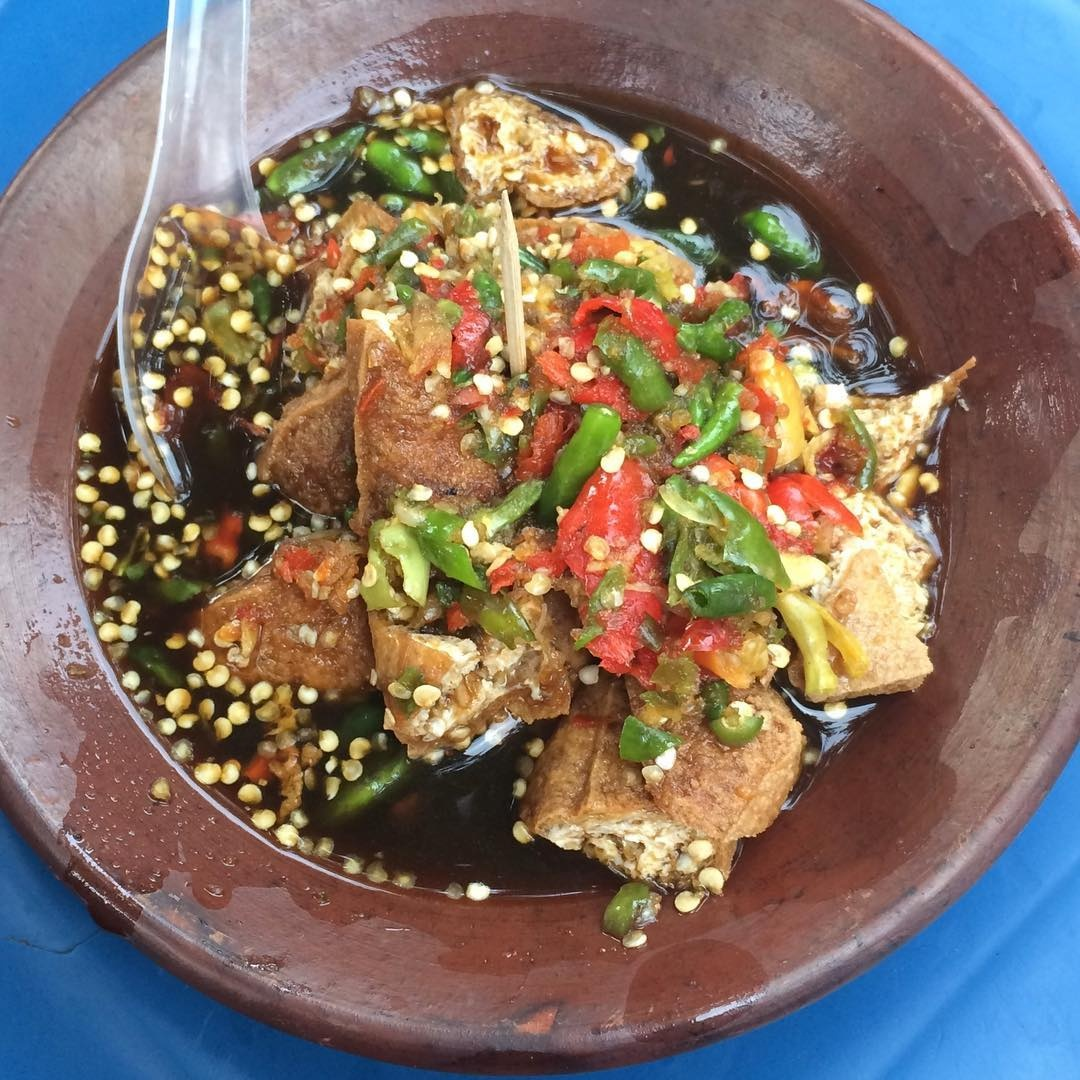tahu_gejrot: (72, 60, 957, 931)
